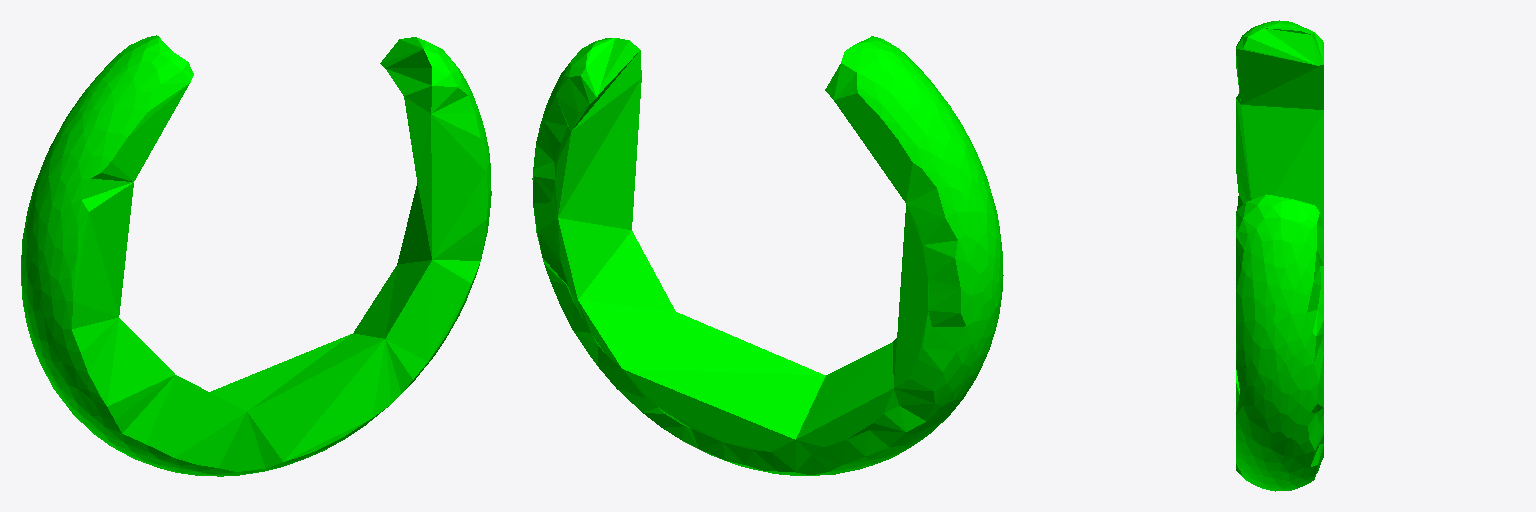
The robot description file, URDF, robot "LampFootSphere":
<?xml version="1.0"?>
<robot name="LampFootSphere">

  <material name="Blue"> <!-- for spheres -->
    <color rgba="0 0 1 0.5"/>
  </material>
  <material name="White">
    <color rgba="1 1 1 1"/>
  </material>
  <material name="Gray">
    <color rgba="0.6 0.6 0.6 1"/>
  </material>
  <material name="Green"> <!-- for ROMs -->
    <color rgba="0 1 0 0.4"/>
  </material>

  <link name="base_link"/>
  <joint name="base_link_J" type="fixed">
      <parent link="base_link"/>
      <child link="Head"/>
      <origin rpy="0 0 3.14159265359" xyz="0 0 0"/>
   </joint>

  <link name="Head"/>
  <link name="HeadLink"/>

  <joint name="head_rom_joint" type="fixed">
      <parent link="HeadLink"/>
      <child link="head_rom"/>
      <origin rpy="0 0 0" xyz="0 0 0"/>
   </joint>

  <link name="head_rom">
      <visual>
         <origin xyz="0 0 0" rpy="0 0 0"/>
         <geometry>
            <mesh filename="package://hpp-rbprm-corba/meshes/lamp/foot_rom.stl"/>
         </geometry>
         <material name="Green"/>
      </visual>
      <collision>
         <origin xyz="0 0 0" rpy="0 0 0"/>
         <geometry>
            <mesh filename="package://hpp-rbprm-corba/meshes/lamp/foot_rom.stl"/>
         </geometry>
      </collision>
   </link>

   <!-- JOINTS -->
   <joint name="Head" type="fixed">
      <parent link="Head"/>
      <child link="HeadLink"/>
      <origin rpy="0 0 0" xyz="0.0912 -0.0012 -0.0501"/>
   </joint>

</robot>

--- What the picture shows (computed from the rendered views, not written in the file) ---
3 views of the same robot in one strip: view 1: azimuth 30°, elevation 25°; view 2: azimuth 150°, elevation 25°; view 3: azimuth 270°, elevation 25° (orthographic).
Model LampFootSphere with 4 links and 3 joints (3 fixed), rooted at base_link, posed all joints at 0.
Visible links, largest first — view 1: head_rom; view 2: head_rom; view 3: head_rom.
Link boxes in pixels (<box>): head_rom: <box>21,35,491,476</box>; head_rom: <box>532,36,1003,475</box>; head_rom: <box>1236,20,1323,491</box>.
Bounding box of the posed robot: 0.7677 × 0.1436 × 0.7221 m (x, y, z).
1 mesh visuals loaded from 1 distinct referenced files (1 binary STL).